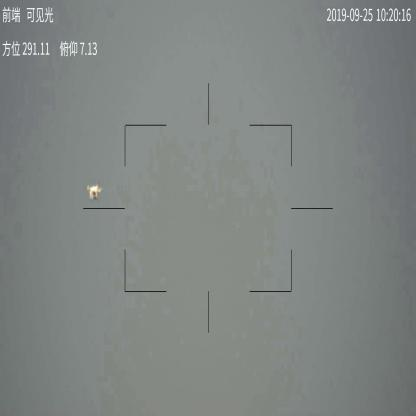uav: (85, 182, 104, 201)
